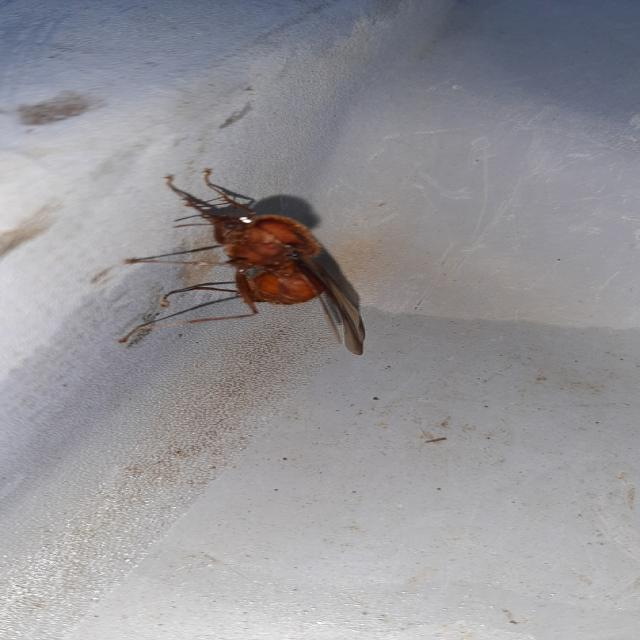Alive-Male-Alate: (119, 168, 366, 356)
